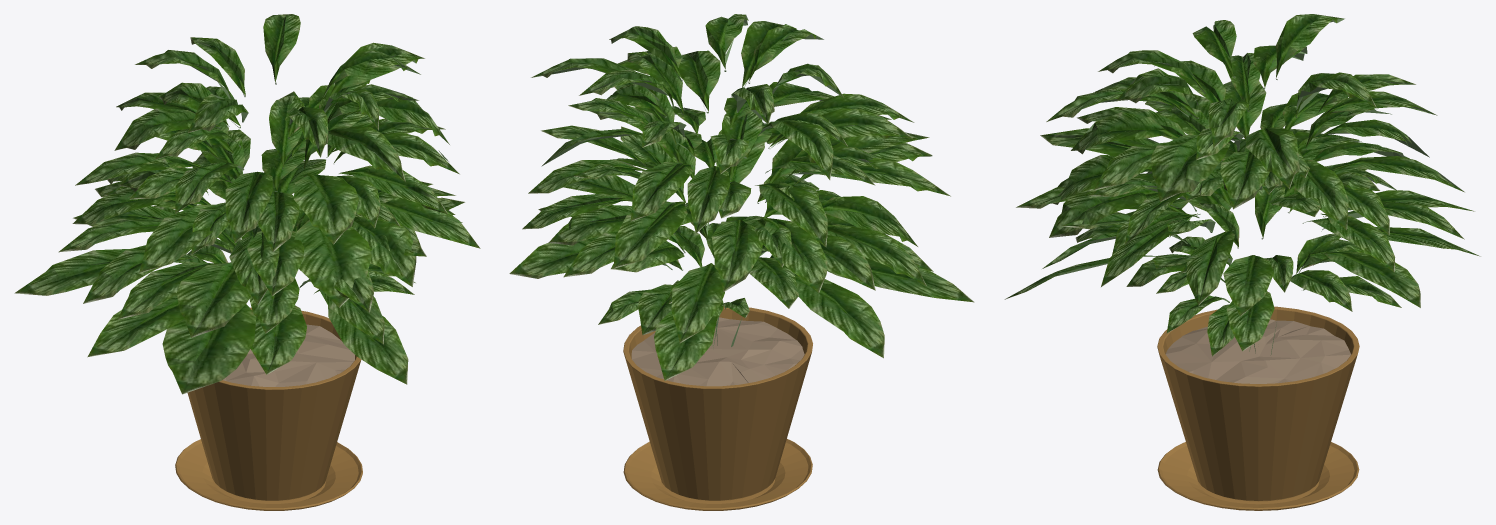
Rendered from sh-bsby-spatifilum.glb.
3 views of the same model, side by side, from view 1: azimuth 30°, elevation 25°; view 2: azimuth 150°, elevation 25°; view 3: azimuth 270°, elevation 25° (orthographic). The views are drawn at different scales.
Parts seen in each view (by area): view 1: Flower_Plane.211, Bowl_Circle, Dirt_Circle.002; view 2: Flower_Plane.211, Bowl_Circle, Dirt_Circle.002; view 3: Flower_Plane.211, Bowl_Circle, Dirt_Circle.002.
Boxes of the visible parts, x1,y1,x2,y2 form: Flower_Plane.211: (14, 14, 480, 394); Bowl_Circle: (175, 307, 362, 510); Dirt_Circle.002: (223, 324, 354, 386); Flower_Plane.211: (509, 14, 974, 380); Bowl_Circle: (623, 306, 812, 510); Dirt_Circle.002: (631, 317, 804, 386); Flower_Plane.211: (1004, 14, 1480, 356); Bowl_Circle: (1157, 306, 1359, 510); Dirt_Circle.002: (1165, 319, 1351, 383).
Size of the model in its own units: 1 by 1 by 1.
Materials: 4 (1 with a texture image).
